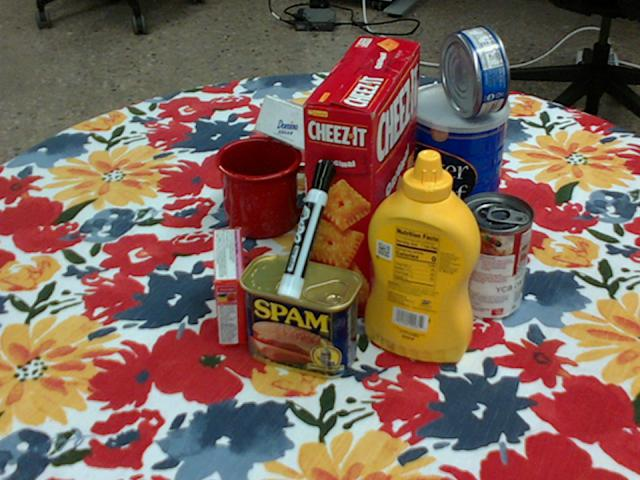cracker_box: (302, 35, 421, 317)
gelatin_box: (213, 227, 245, 344)
large_marker: (278, 157, 335, 298)
master_chef_can: (405, 83, 508, 245)
mug: (216, 136, 327, 239)
mustard_bottle: (365, 149, 481, 363)
potted_meat_can: (240, 253, 363, 378)
sugar_box: (256, 95, 410, 184)
tomato_soup_can: (453, 192, 534, 320)
tuna_fish_can: (438, 25, 509, 117)
